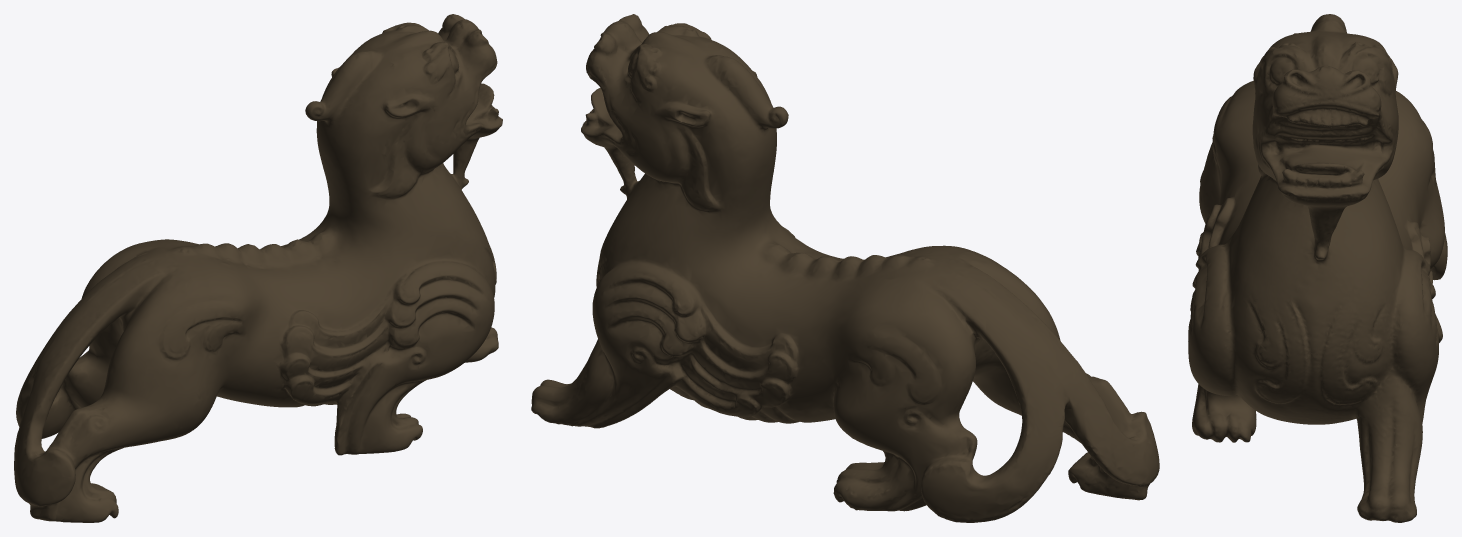
Rendered from sf-mausoleum-pi-xiu-sculpture-08b884.glb.
3 views of the same model, side by side, from view 1: azimuth 30°, elevation 25°; view 2: azimuth 150°, elevation 25°; view 3: azimuth 270°, elevation 25° (orthographic). The views are drawn at different scales.
Visible parts, largest first — view 1: Object_2; view 2: Object_2; view 3: Object_2.
Boxes of the visible parts, x1,y1,x2,y2 form: Object_2: [14, 14, 502, 522]; Object_2: [531, 14, 1159, 522]; Object_2: [1188, 14, 1447, 522].
Bounding box in the file's own units: 3.5 × 2.3 × 1.24.
